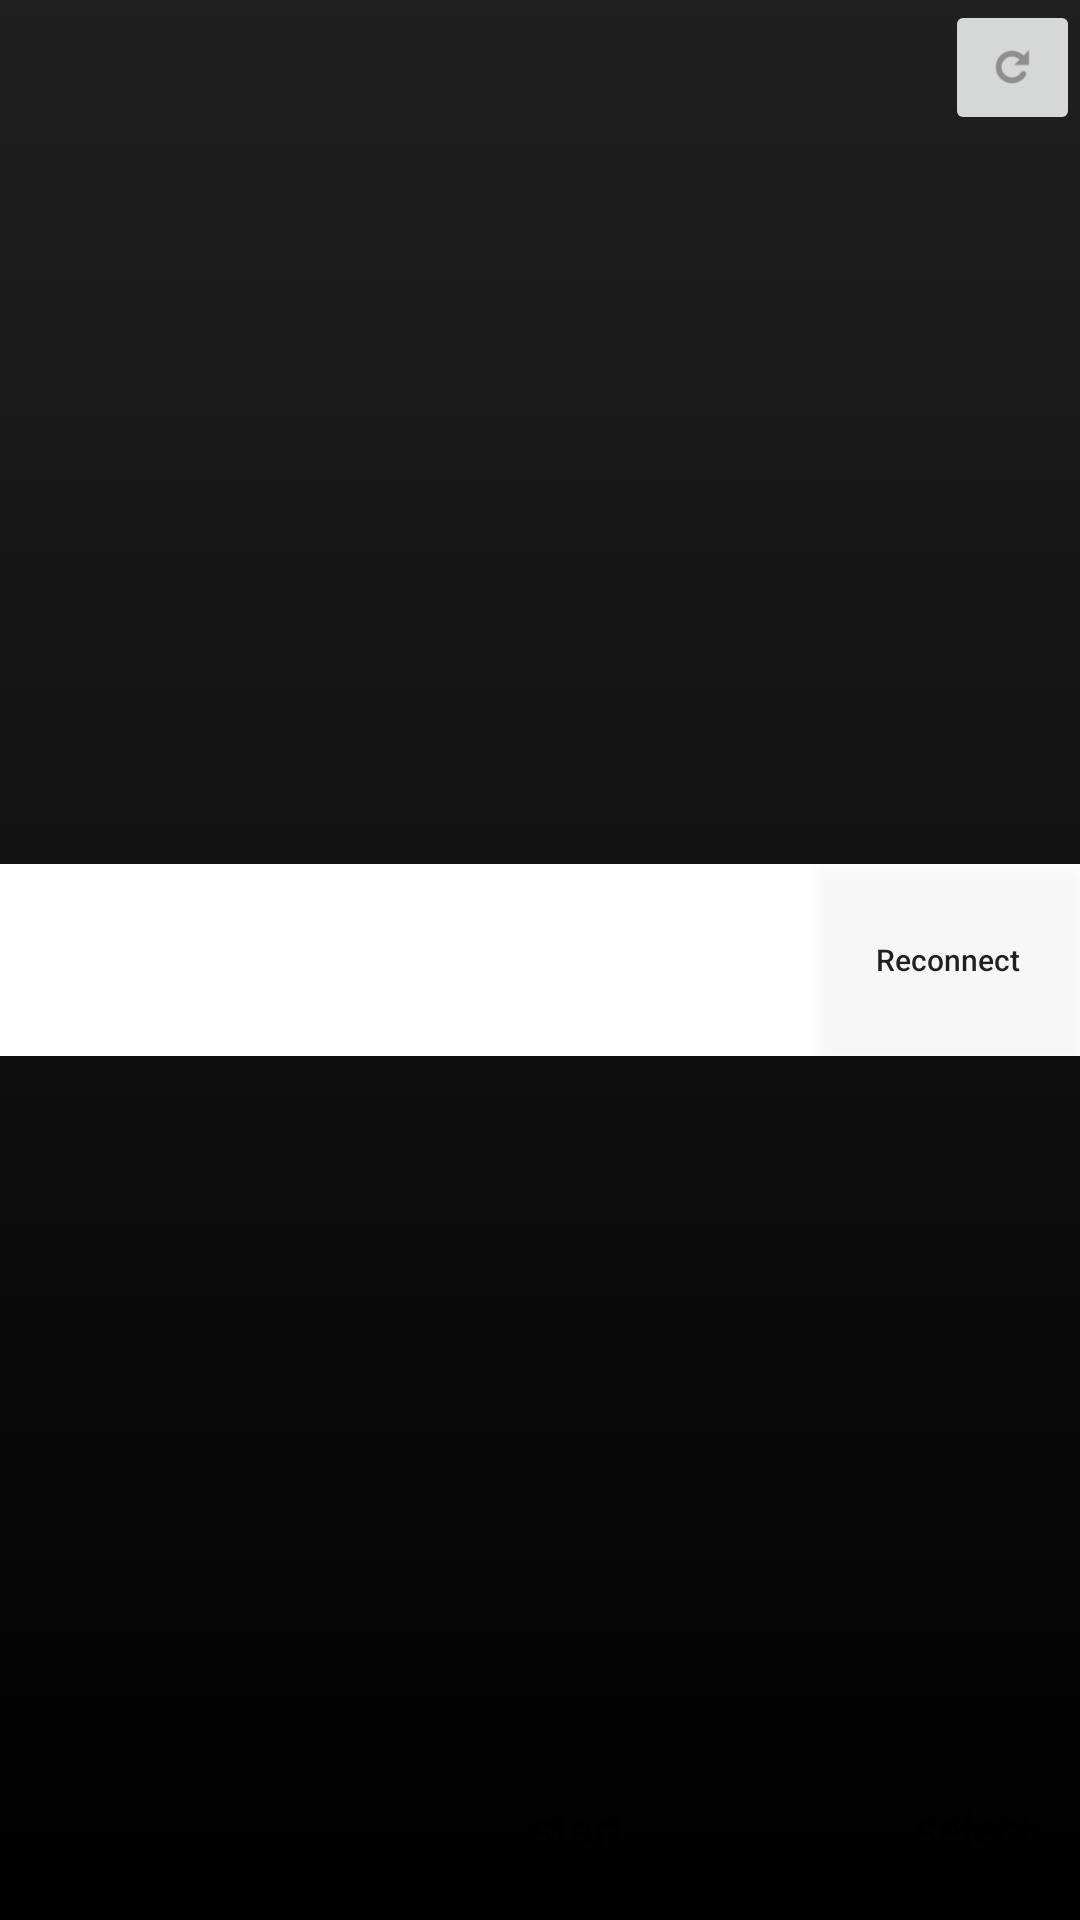

Icon click points for this 1080 x 1920 phone screenshot, format (x,y):
reload: (1012,67)
